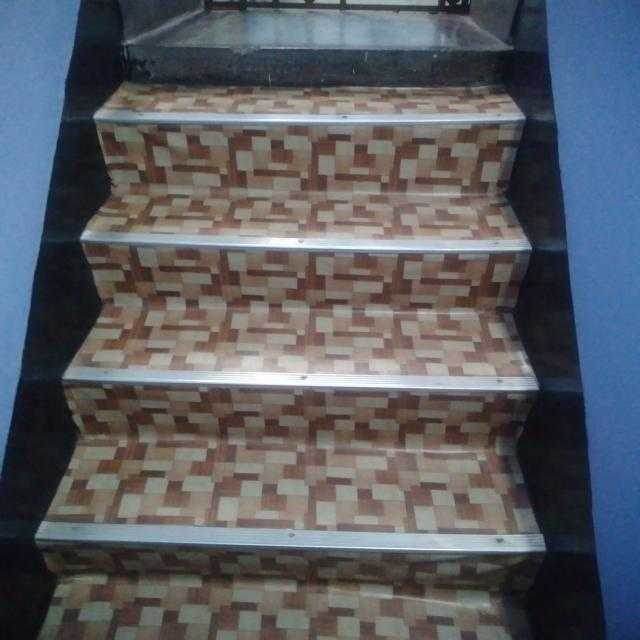Stairs: (62, 28, 572, 618)
